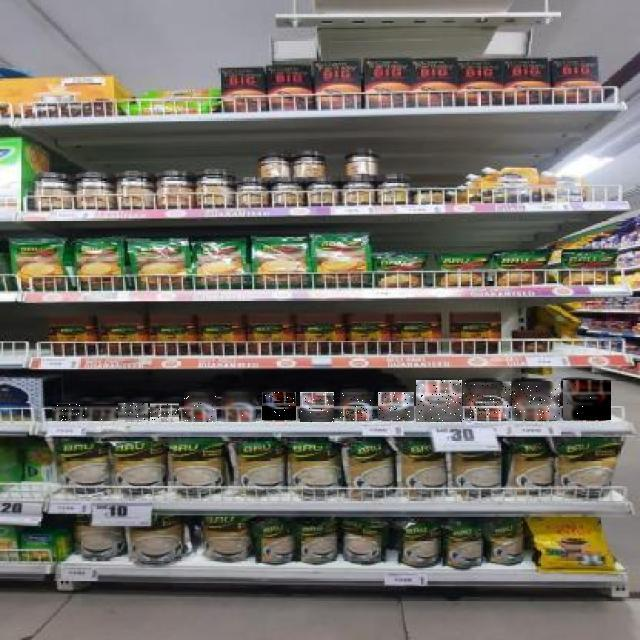Coffee: (416, 380, 462, 422), (563, 380, 611, 420), (463, 382, 511, 420), (512, 382, 560, 420), (221, 392, 256, 422), (300, 392, 334, 422), (378, 392, 414, 420), (184, 392, 216, 422), (262, 392, 296, 420), (340, 392, 374, 420), (52, 404, 85, 421), (118, 404, 148, 422), (150, 404, 179, 422), (87, 404, 116, 421)
